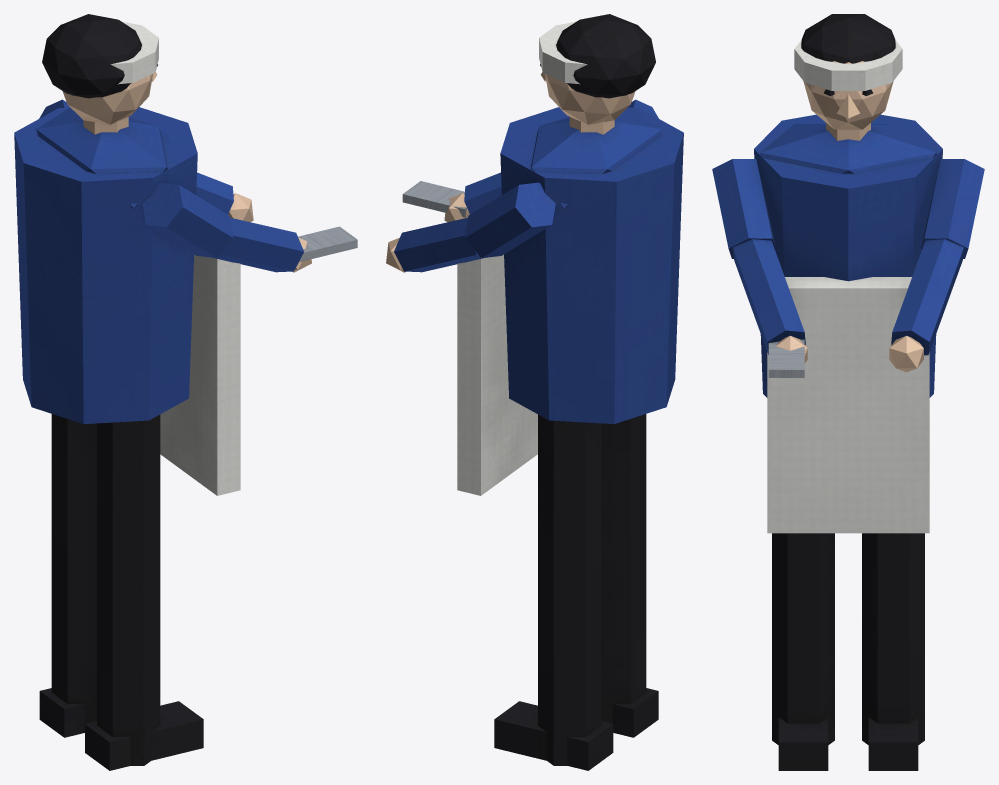
The model's file is forsaljare_tex.glb.
The picture shows the model from 3 angles, left to right: view 1: azimuth 30°, elevation 25°; view 2: azimuth 150°, elevation 25°; view 3: azimuth 270°, elevation 25°; orthographic projection.
Visible parts, largest first — view 1: forsaljare; view 2: forsaljare; view 3: forsaljare.
Part boxes in pixels (left/top/right/bottom): forsaljare: left=14, top=14, right=357, bottom=770; forsaljare: left=386, top=14, right=683, bottom=770; forsaljare: left=712, top=14, right=984, bottom=770.
Size of the model in its own units: 0.75 by 1.76 by 0.6056.
6 materials, 6 textured.
